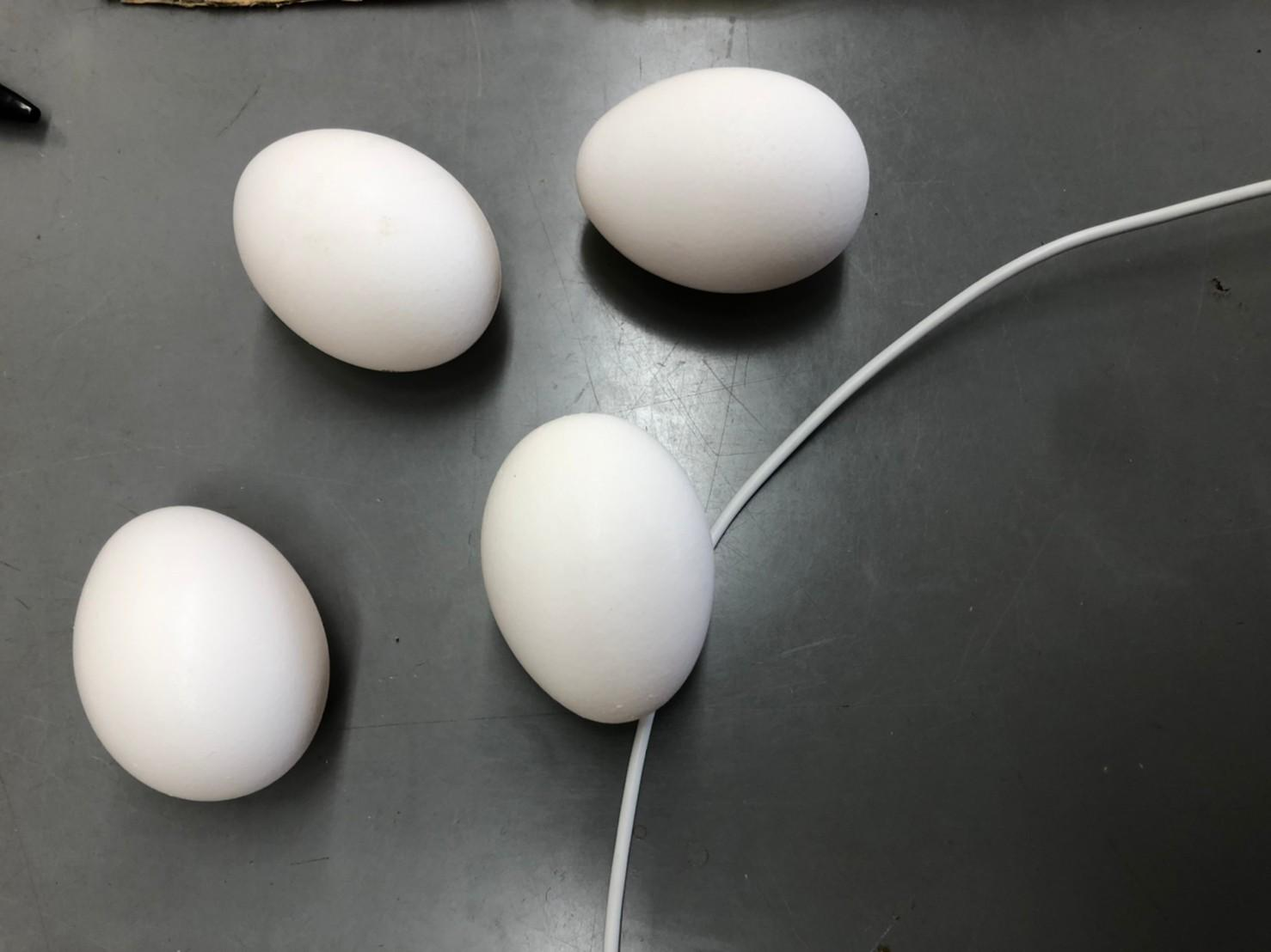egg: (63, 501, 339, 809), (476, 409, 716, 733), (568, 61, 873, 299), (225, 119, 508, 374)
